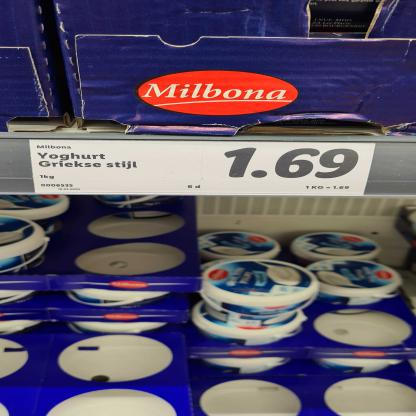prtg: (31, 140, 378, 197)
